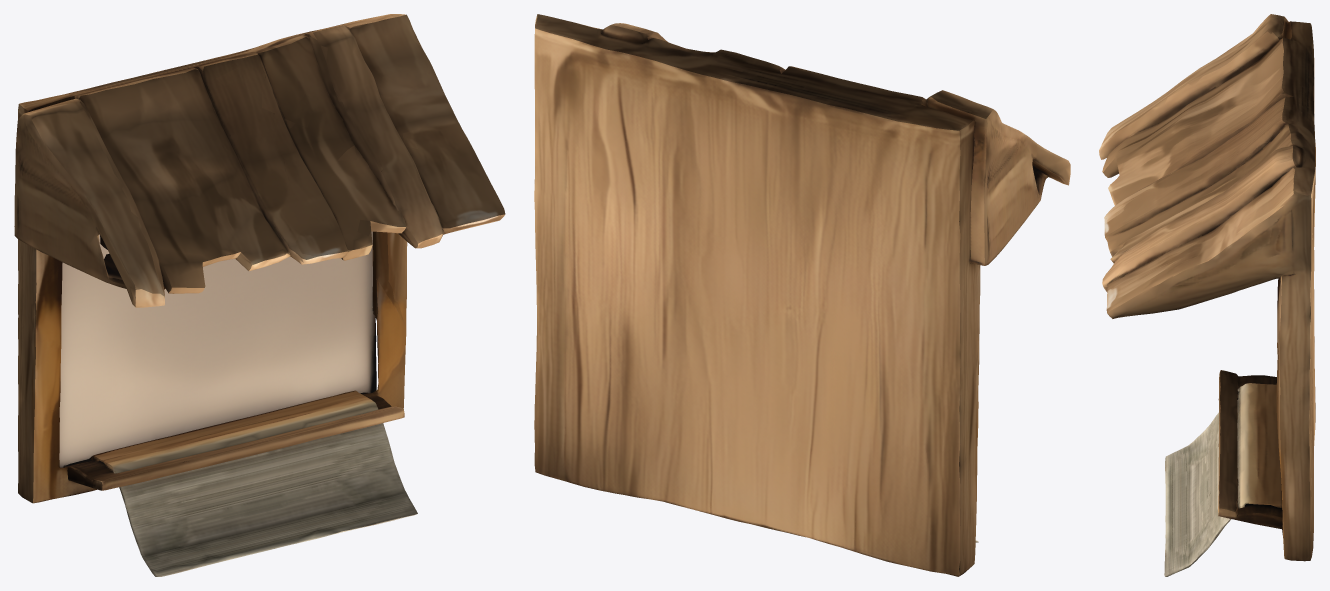
The model's file is bounty-board.glb.
3 views of the same model, side by side, from view 1: azimuth 30°, elevation 25°; view 2: azimuth 150°, elevation 25°; view 3: azimuth 270°, elevation 25° (orthographic). The views are drawn at different scales.
Visible parts, largest first — view 1: world; view 2: world; view 3: world.
Part boxes in pixels (box(x1,y1,x2,y2)): world: box(14, 14, 505, 576); world: box(534, 14, 1070, 576); world: box(1099, 14, 1315, 576).
Size of the model in its own units: 0.9377 by 1 by 0.4727.
1 material, 1 textured.
